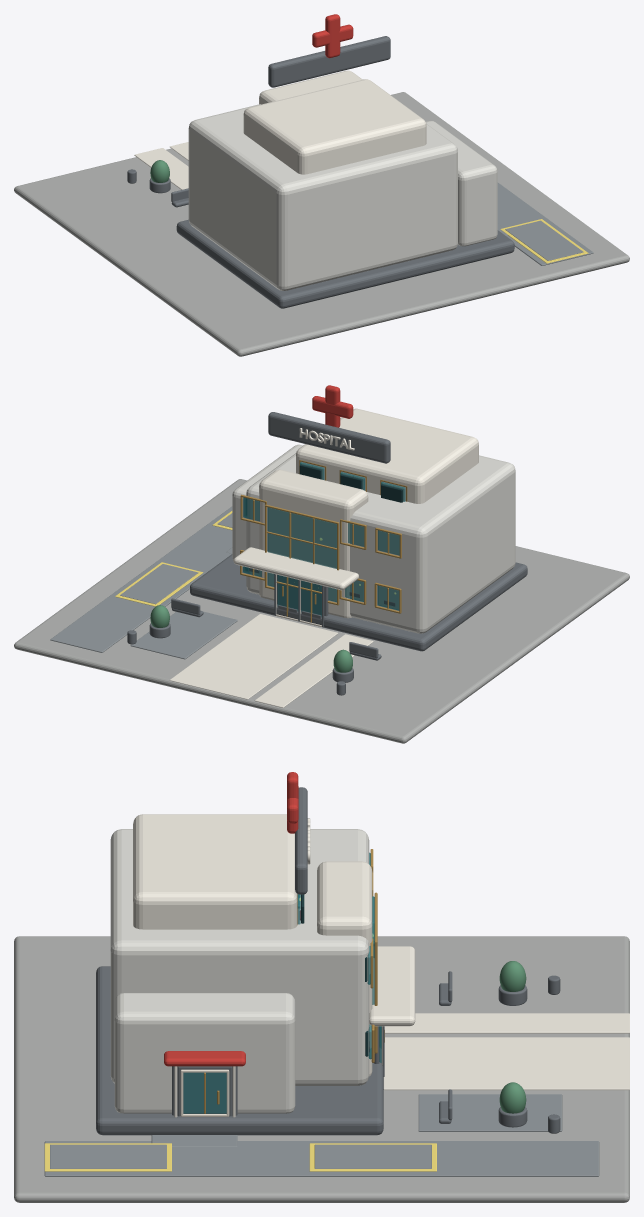
Rendered from hospital_exterior_canon_v2.glb.
3 views of the same model, one above another, from view 1: azimuth 30°, elevation 25°; view 2: azimuth 150°, elevation 25°; view 3: azimuth 270°, elevation 25° (orthographic). The views are drawn at different scales.
Visible parts, largest first — view 1: PAD_HOSPITAL_EXTERIOR_01, Hospital_MainWing, Hospital_UpperWard, Hospital_Plinth, Hospital_ServiceWing, Hospital_RoofSign_Back, ROUTE_HOSPITAL_EMERGENCY, AmbulanceBayInner_01, Hospital_Atrium, ROUTE_HOSPITAL_ACCESSIBLE, Hospital_Cross_V, AmbulanceBayMark_01 (+1 smaller); view 2: PAD_HOSPITAL_EXTERIOR_01, Hospital_MainWing, Hospital_UpperWard, Hospital_Atrium, ROUTE_HOSPITAL_PUBLIC, Hospital_Plinth, ROUTE_HOSPITAL_EMERGENCY, Hospital_AtriumGlass, Hospital_RoofSign_Back, DROPOFF_HOSPITAL_PUBLIC, Hospital_PublicCanopy, ROUTE_HOSPITAL_ACCESSIBLE (+7 smaller); view 3: PAD_HOSPITAL_EXTERIOR_01, Hospital_MainWing, Hospital_UpperWard, Hospital_ServiceWing, ROUTE_HOSPITAL_PUBLIC, ROUTE_HOSPITAL_EMERGENCY, Hospital_Plinth, ROUTE_HOSPITAL_ACCESSIBLE, Hospital_Atrium, DROPOFF_HOSPITAL_PUBLIC, Hospital_PublicCanopy, AmbulanceBayInner_02 (+10 smaller).
Boxes of the visible parts, <box> form: PAD_HOSPITAL_EXTERIOR_01: <box>14,92,629,356</box>; Hospital_MainWing: <box>188,79,457,290</box>; Hospital_UpperWard: <box>243,79,426,174</box>; Hospital_Plinth: <box>176,219,514,308</box>; Hospital_ServiceWing: <box>426,121,497,246</box>; Hospital_RoofSign_Back: <box>268,36,390,87</box>; ROUTE_HOSPITAL_EMERGENCY: <box>497,182,593,265</box>; AmbulanceBayInner_01: <box>505,220,583,260</box>; Hospital_Atrium: <box>259,70,362,104</box>; ROUTE_HOSPITAL_ACCESSIBLE: <box>134,148,188,189</box>; Hospital_Cross_V: <box>325,14,340,58</box>; AmbulanceBayMark_01: <box>500,219,588,263</box>; PAD_HOSPITAL_EXTERIOR_01: <box>14,479,629,743</box>; Hospital_MainWing: <box>246,453,515,633</box>; Hospital_UpperWard: <box>296,408,478,503</box>; Hospital_Atrium: <box>259,469,368,618</box>; ROUTE_HOSPITAL_PUBLIC: <box>169,614,338,699</box>; Hospital_Plinth: <box>190,554,527,651</box>; ROUTE_HOSPITAL_EMERGENCY: <box>50,506,232,652</box>; Hospital_AtriumGlass: <box>267,507,336,602</box>; Hospital_RoofSign_Back: <box>268,412,390,463</box>; DROPOFF_HOSPITAL_PUBLIC: <box>130,611,237,659</box>; Hospital_PublicCanopy: <box>233,547,358,590</box>; ROUTE_HOSPITAL_ACCESSIBLE: <box>254,634,373,707</box>; PAD_HOSPITAL_EXTERIOR_01: <box>14,936,629,1202</box>; Hospital_MainWing: <box>110,829,369,1085</box>; Hospital_UpperWard: <box>133,814,297,929</box>; Hospital_ServiceWing: <box>114,993,295,1113</box>; ROUTE_HOSPITAL_PUBLIC: <box>383,1037,629,1090</box>; ROUTE_HOSPITAL_EMERGENCY: <box>44,1141,599,1176</box>; Hospital_Plinth: <box>96,966,383,1135</box>; ROUTE_HOSPITAL_ACCESSIBLE: <box>384,1013,629,1033</box>; Hospital_Atrium: <box>317,861,372,1076</box>; DROPOFF_HOSPITAL_PUBLIC: <box>418,1094,562,1131</box>; Hospital_PublicCanopy: <box>369,946,415,1026</box>; AmbulanceBayInner_02: <box>314,1144,431,1168</box>.
Bounding box in the file's own units: 30 × 16.09 × 30.
